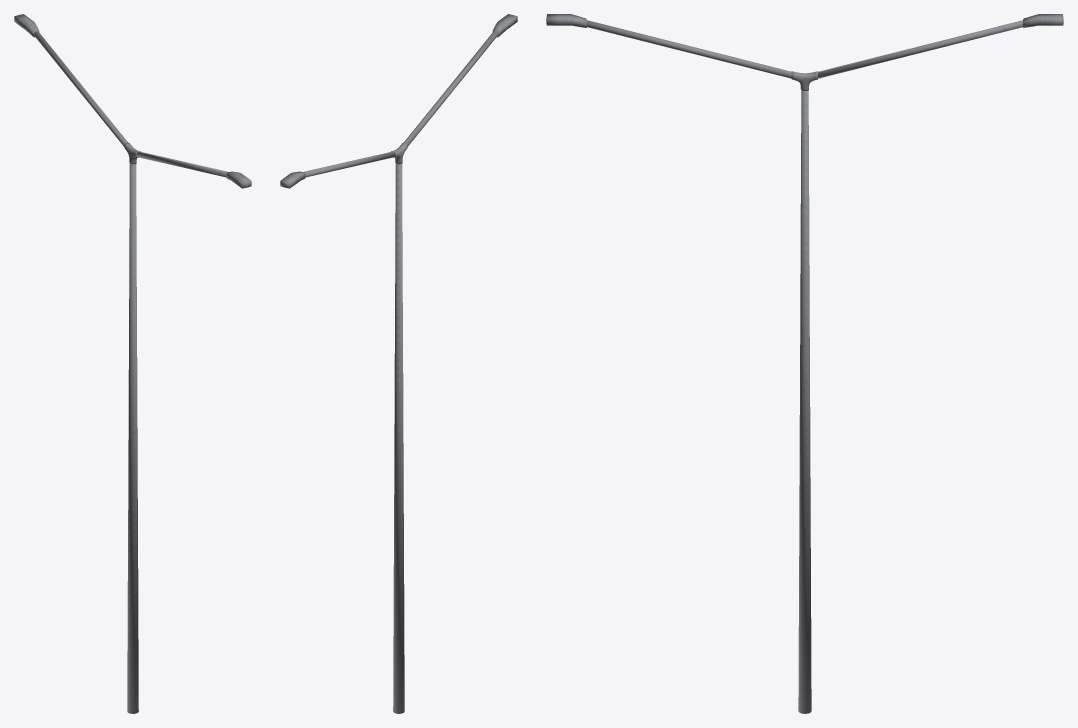
The model's file is trafficpostlight.glb.
3 renders of one model, left to right at view 1: azimuth 30°, elevation 25°; view 2: azimuth 150°, elevation 25°; view 3: azimuth 270°, elevation 25°, orthographic. The views are drawn at different scales.
Visible parts, largest first — view 1: Object_4; view 2: Object_4; view 3: Object_4.
Part boxes in pixels (x1,y1,x2,y2): Object_4: (14,14,251,713); Object_4: (280,14,517,713); Object_4: (546,14,1063,713).
Size of what is drawn, in the model's own units: 0.15 by 8.73 by 5.89.
Materials: 2 (2 with a texture image).
